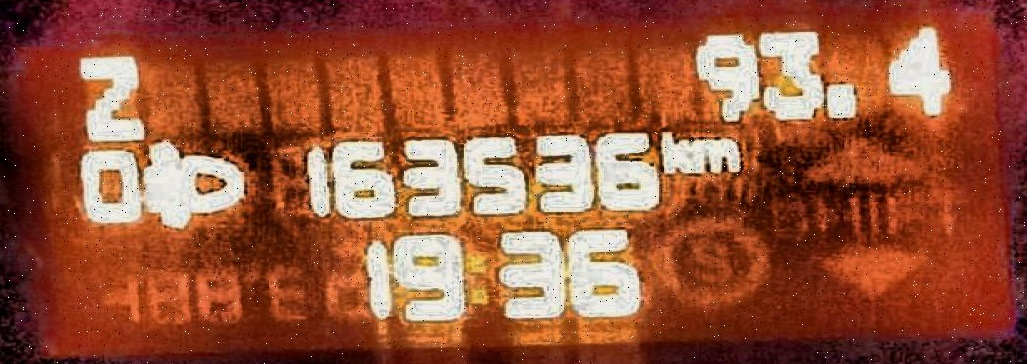-: (820, 74, 862, 124)
0: (79, 148, 140, 223)
1: (359, 233, 390, 322), (302, 138, 330, 219)
3: (757, 29, 825, 120), (497, 227, 565, 318), (398, 134, 462, 217), (533, 132, 592, 211)
4: (882, 23, 948, 117)
5: (462, 130, 527, 214)
6: (565, 224, 642, 319), (330, 137, 395, 218), (595, 128, 659, 210)
9: (394, 229, 469, 324), (694, 29, 759, 124)
X: (70, 49, 155, 143), (465, 245, 494, 314), (690, 137, 744, 173), (655, 127, 689, 178)
